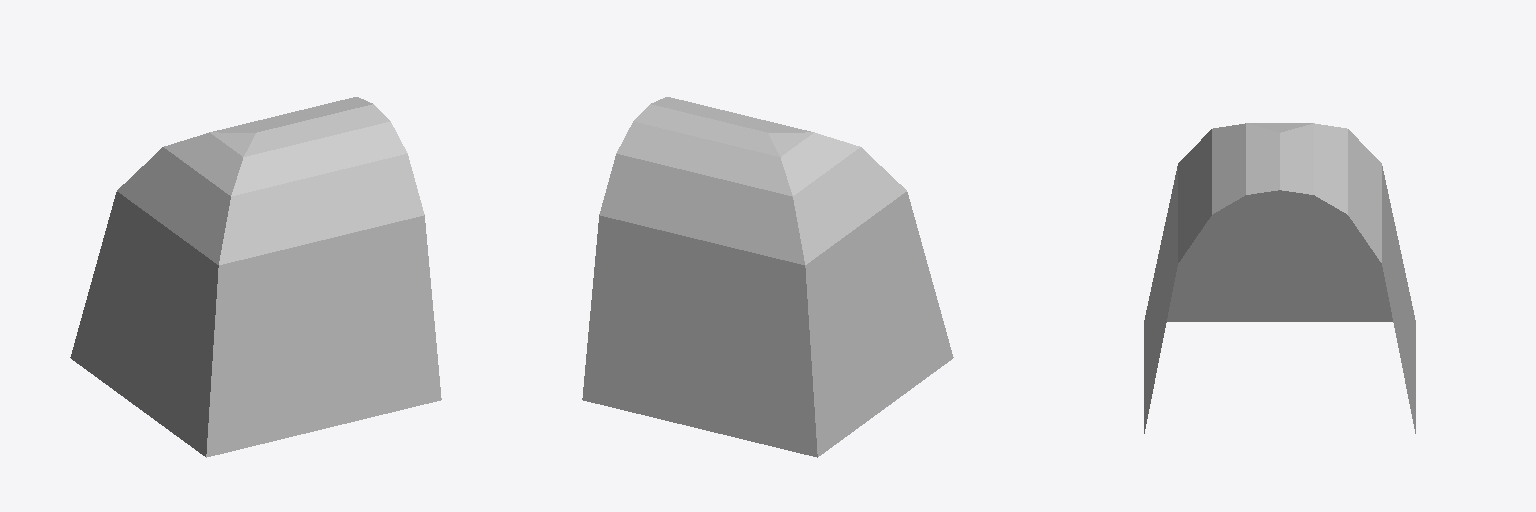
The model's file is Stone1a.obj.
3 renders of one model, left to right at view 1: azimuth 30°, elevation 25°; view 2: azimuth 150°, elevation 25°; view 3: azimuth 270°, elevation 25°, orthographic.
Parts seen in each view (by area): view 1: Grid_Grid.010_Grid_Grid.032; view 2: Grid_Grid.010_Grid_Grid.032; view 3: Grid_Grid.010_Grid_Grid.032.
Part boxes in pixels (x1,y1,x2,y2): Grid_Grid.010_Grid_Grid.032: (70,97,441,457); Grid_Grid.010_Grid_Grid.032: (582,97,953,457); Grid_Grid.010_Grid_Grid.032: (1144,123,1415,433).
Size of the model in its own units: 1 by 1 by 1.